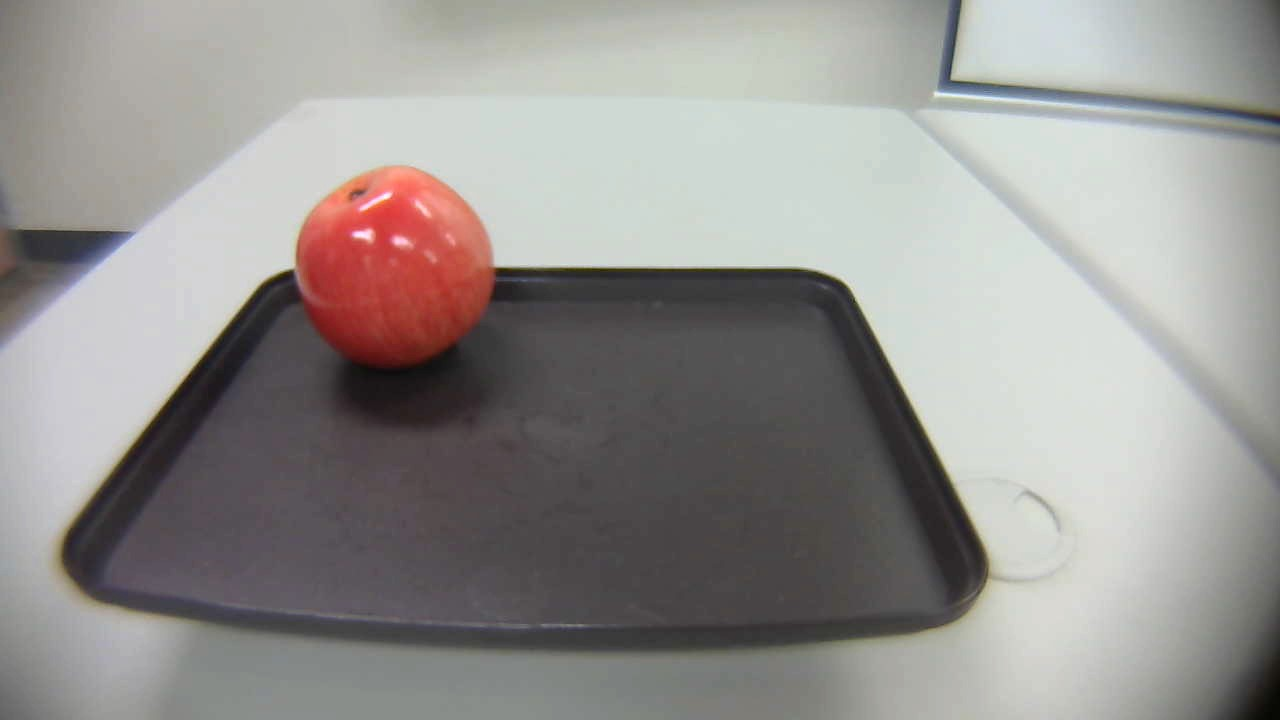red apple: (283, 159, 509, 363)
